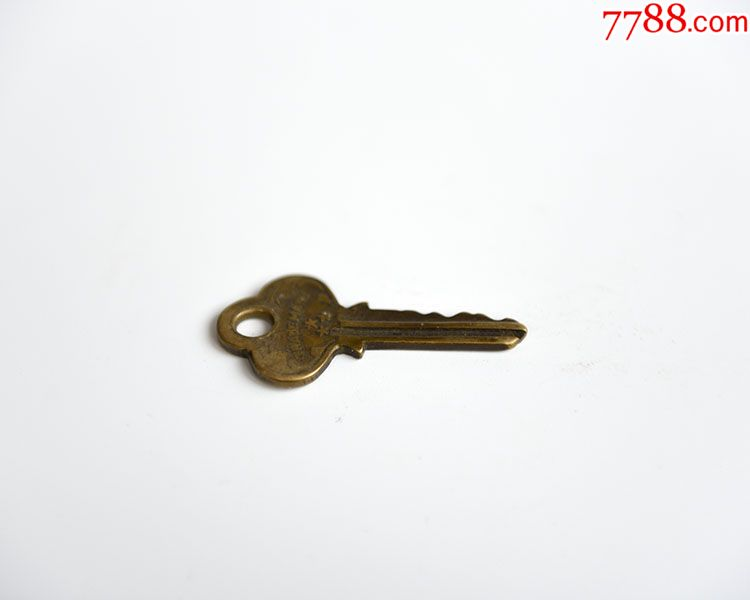key: (202, 268, 537, 396)
